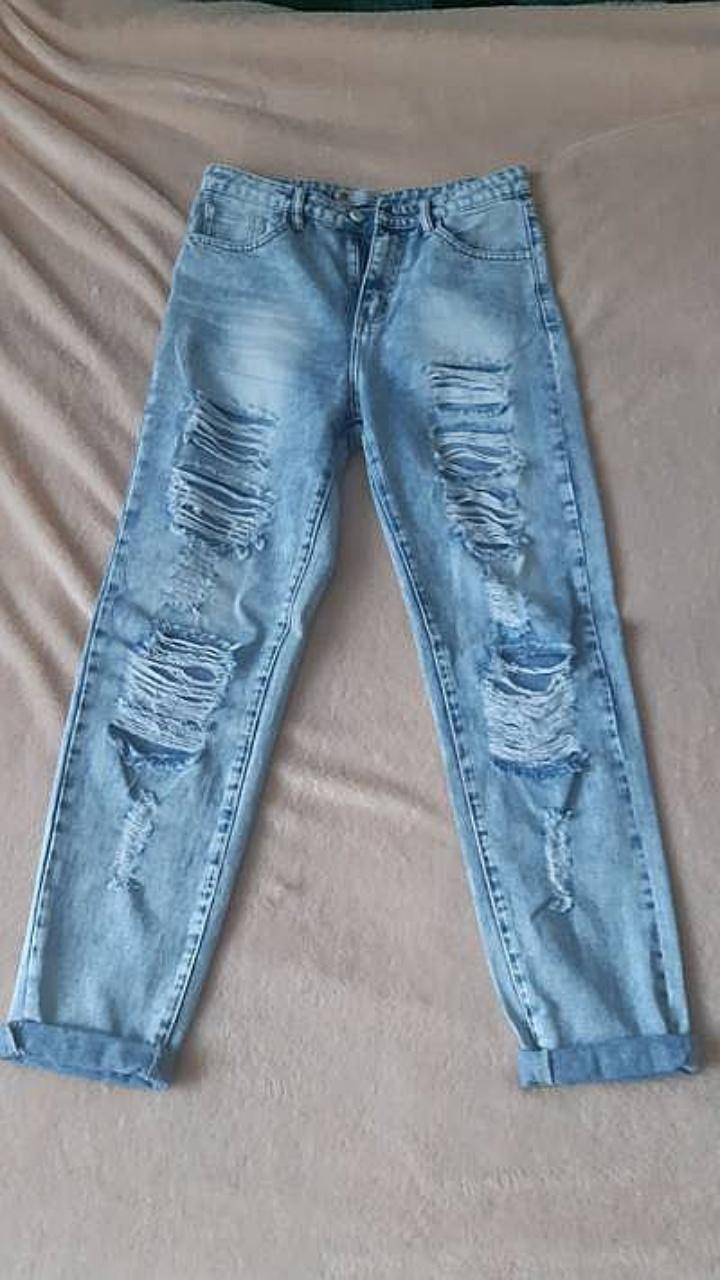Jeans: (0, 163, 698, 1088)
